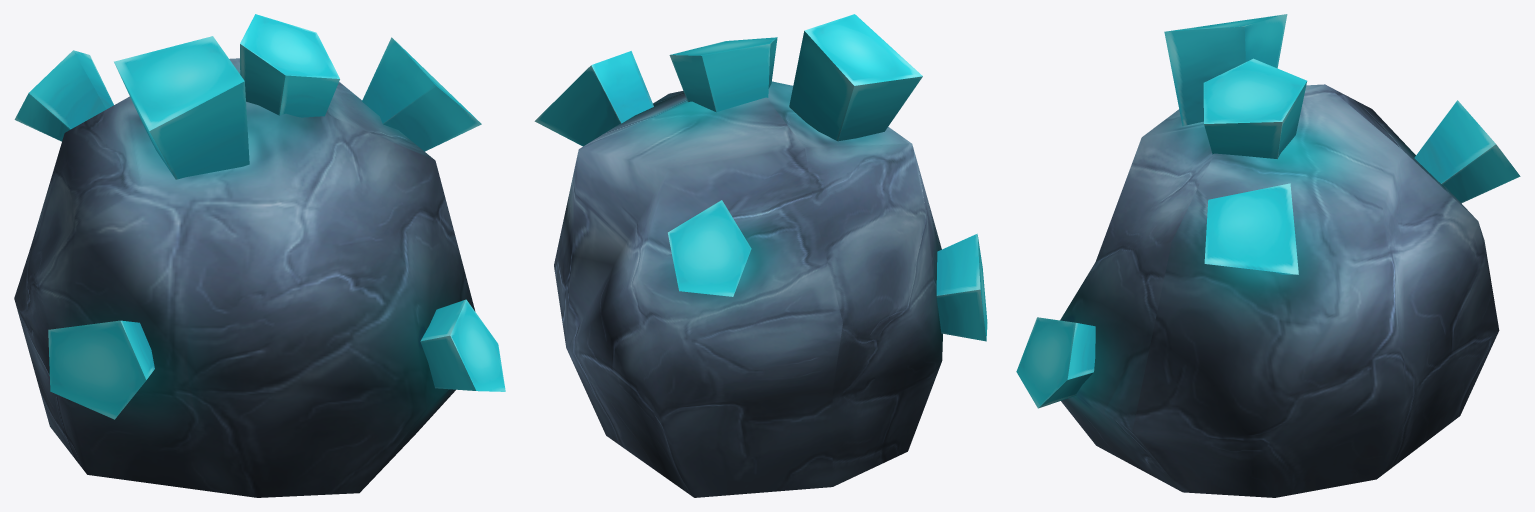
Rendered from ore_small_mithril.fbx.
3 renders of one model, left to right at view 1: azimuth 30°, elevation 25°; view 2: azimuth 150°, elevation 25°; view 3: azimuth 270°, elevation 25°, orthographic. The views are drawn at different scales.
Visible parts, largest first — view 1: ore_small_mithril:Mesh; view 2: ore_small_mithril:Mesh; view 3: ore_small_mithril:Mesh.
Part boxes in pixels (box(x1,y1,x2,y2)): ore_small_mithril:Mesh: box(14, 14, 505, 497); ore_small_mithril:Mesh: box(534, 14, 987, 497); ore_small_mithril:Mesh: box(1016, 14, 1520, 497).
Size of the model in its own units: 3.71 by 3.36 by 3.96.
